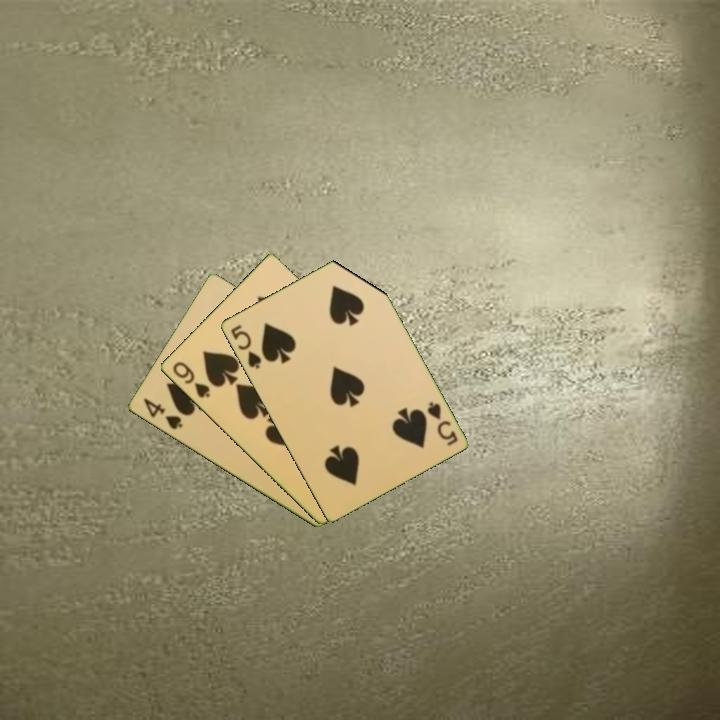4s: (139, 394, 185, 432)
5s: (227, 321, 264, 372), (423, 398, 460, 449)
9s: (169, 358, 213, 401)
